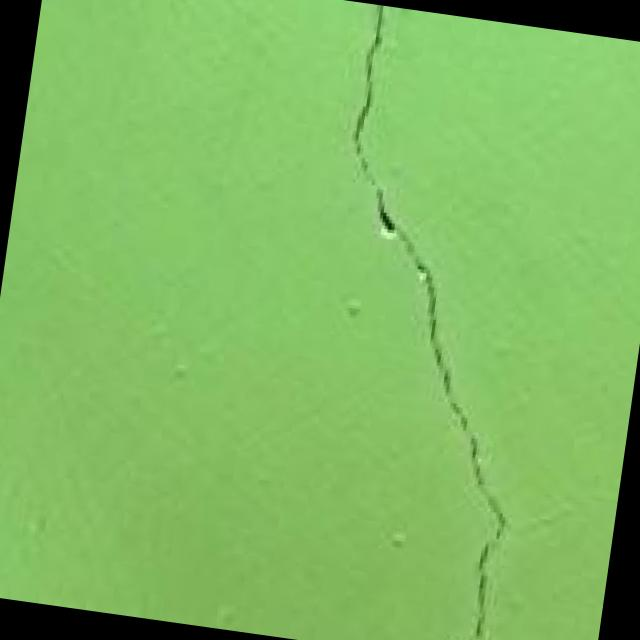crack: (247, 0, 634, 640)
